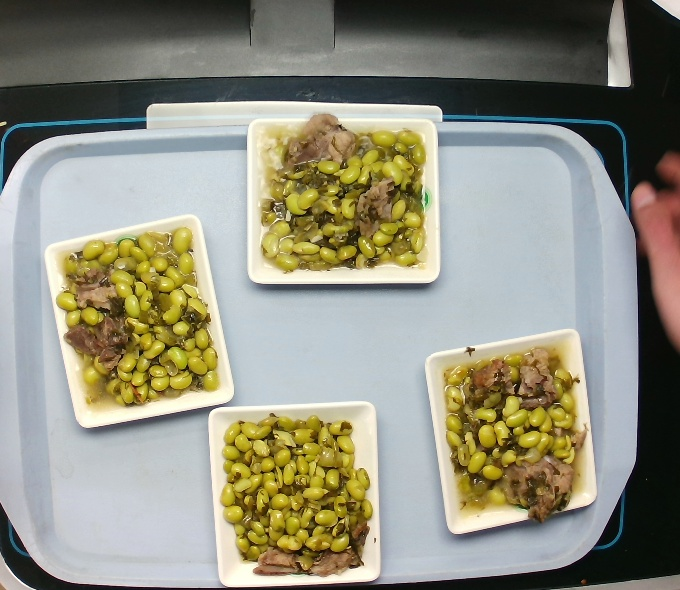wcq-ZhuRouDunDou: (49, 226, 222, 405), (254, 112, 435, 278), (433, 344, 588, 528), (217, 407, 378, 582)
